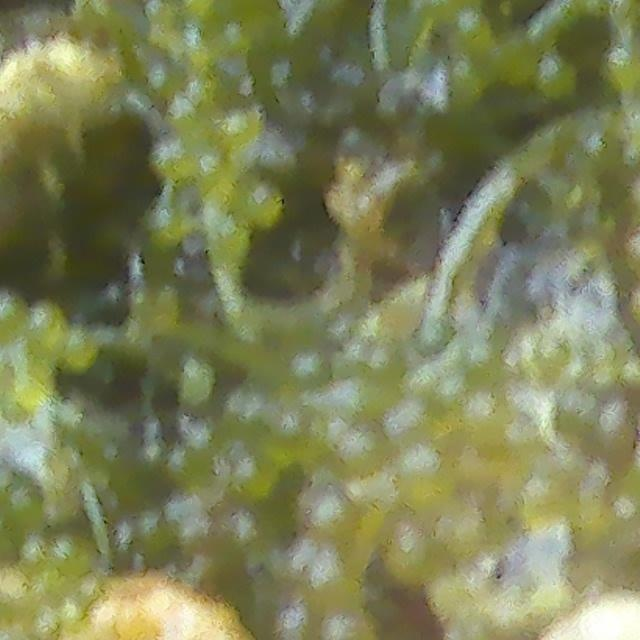SeaGrape: (334, 424, 389, 480), (24, 301, 64, 353), (59, 323, 99, 372)
